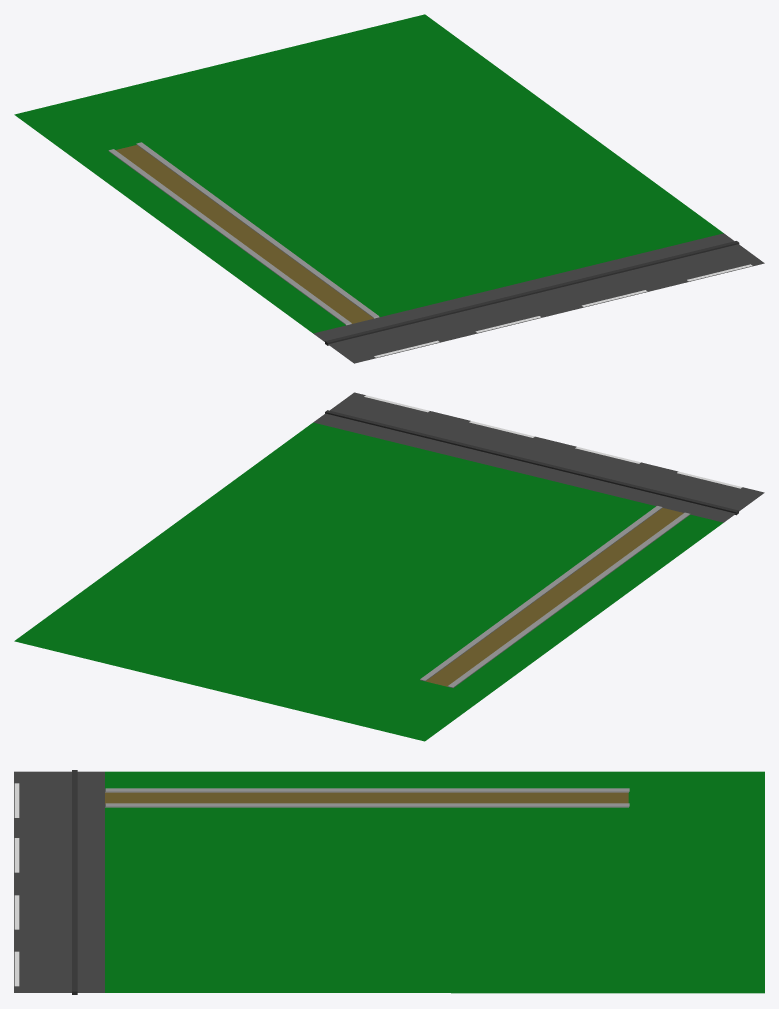
The model's file is Garten.fbx.
The picture shows the model from 3 angles, top to bottom: view 1: azimuth 30°, elevation 25°; view 2: azimuth 150°, elevation 25°; view 3: azimuth 270°, elevation 25°; orthographic projection. The views are drawn at different scales.
Visible parts, largest first — view 1: Garden; view 2: Garden; view 3: Garden.
Boxes of the visible parts, <box> form: Garden: <box>14,14,764,363</box>; Garden: <box>14,392,764,741</box>; Garden: <box>14,770,764,994</box>.
Size of the model in its own units: 15019 by 100 by 21503.
